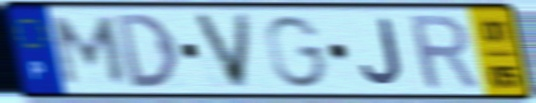D: (112, 11, 182, 91)
G: (263, 13, 332, 91)
J: (358, 16, 406, 88)
M: (51, 14, 130, 88)
R: (404, 12, 483, 93)
V: (189, 11, 255, 92)
